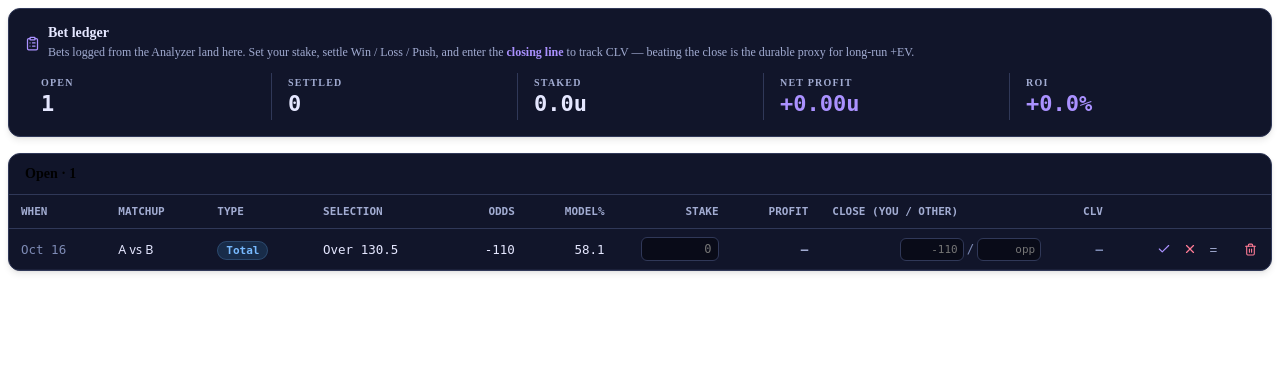
BetLogger › deletes a bet
Click the button titled "Delete bet".
click(1250, 249)  # box [1240,239,1261,260]
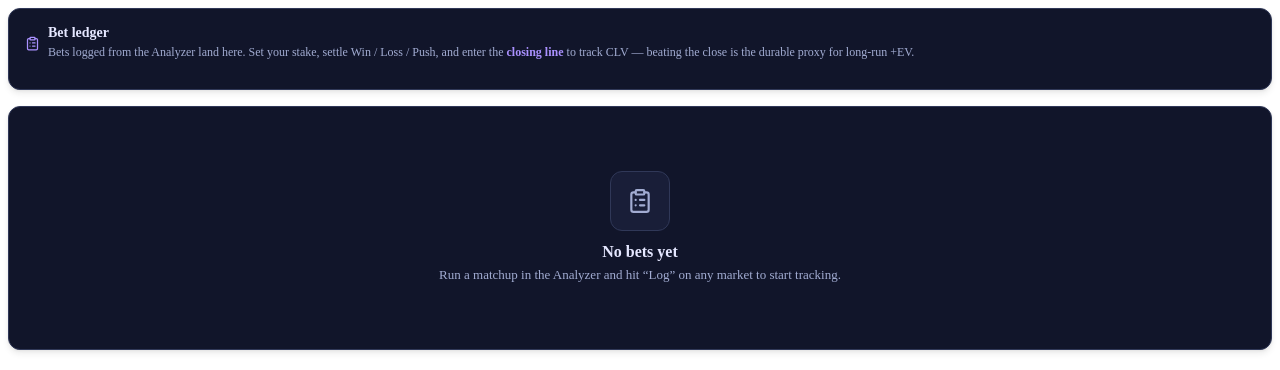
Result: the text "No bets yet" is shown at [602,243,678,260]
